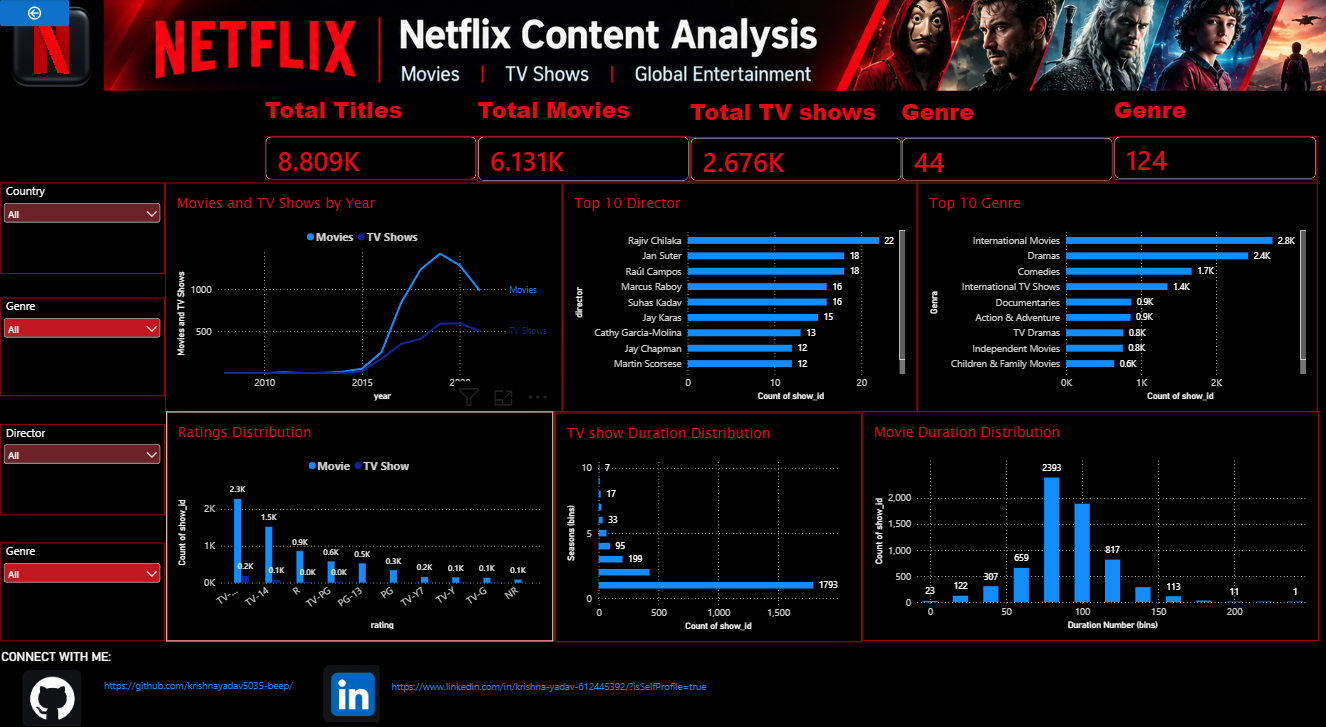

The page's visual inventory and layout, read from the dashboard file:
{"tool":"powerbi","page":{"name":"Page 1","canvas":[1920,1080],"ordinal":0},"visuals":[{"type":"image","box":[150,0,1770,133],"z":0},{"type":"image","box":[0,0,150,142.5],"z":1000},{"type":"lineChart","title":"Movies and TV Shows by Year","fields":{"Category":["netflix_cleaned.added_year"],"Y":["netflix_cleaned.Total Movies","netflix_cleaned.Total TV Shows"]},"box":[239.6,266,575.5,332.1],"z":2000},{"type":"cardVisual","title":"Total Movies","fields":{"Data":["netflix_cleaned.Movies"]},"box":[690.6,137.7,307.5,127.5],"z":3000},{"type":"cardVisual","title":"Total Titles","fields":{"Data":["netflix_cleaned.Total Titles"]},"box":[383,137.7,307.5,125],"z":4000},{"type":"cardVisual","title":"Total TV shows","fields":{"Data":["netflix_cleaned.TV Shows"]},"box":[998.1,139.6,307.5,125],"z":5000},{"type":"clusteredBarChart","title":"Top 10 Director","fields":{"Category":["Director_Data.director"],"Y":["CountNonNull(Director_Data.show_id)"]},"box":[815.1,266,513.2,332.1],"z":6000},{"type":"cardVisual","title":"Genre","fields":{"Data":["Count(genra.listed_in)"]},"box":[1305.7,139.6,307.5,125],"z":7000},{"type":"cardVisual","title":"Country","fields":{"Data":["Count(country_data.country)"]},"box":[1613.2,137.7,294.3,124.5],"z":8000},{"type":"clusteredBarChart","title":"Top 10 Genre","fields":{"Category":["genra.listed_in"],"Y":["CountNonNull(genra.show_id)"]},"box":[1328.3,266,579.2,332.1],"z":9000},{"type":"clusteredColumnChart","title":"Ratings Distribution","fields":{"Category":["netflix_cleaned.rating"],"Series":["netflix_cleaned.type"],"Y":["CountNonNull(Director_Data.show_id)"]},"box":[240,598,562,332],"z":10000},{"type":"clusteredColumnChart","title":"Movie Duration Distribution","fields":{"Category":["netflix_cleaned.Duration Number (bins)"],"Y":["CountNonNull(Director_Data.show_id)"]},"box":[1248,598,661,332.2],"z":11000},{"type":"clusteredBarChart","title":"TV show Duration Distribution","fields":{"Category":["netflix_cleaned.Seasons (bins)"],"Y":["CountNonNull(netflix_cleaned.show_id)"]},"box":[803.4,598.3,444.1,332.2],"z":12000},{"type":"actionButton","box":[0,0,100,40],"z":13000},{"type":"slicer","fields":{"Values":["country_data.country"]},"box":[0,266,238,132],"z":14000},{"type":"slicer","fields":{"Values":["genra.listed_in"]},"box":[0,432,238,142],"z":15000},{"type":"slicer","fields":{"Values":["netflix_cleaned.Seasons"]},"box":[0,788,238,142],"z":16000},{"type":"slicer","fields":{"Values":["Director_Data.director"]},"box":[0,616,238,132],"z":17000},{"type":"textbox","title":"CONNECT WITH ME:","box":[1.7,941.7,476.2,22.5],"z":18000},{"type":"image","box":[31.7,965,86.7,95],"z":19000},{"type":"textbox","box":[1801.7,930,106.7,55],"z":20000},{"type":"image","box":[463.3,957.3,86.7,95],"z":21000},{"type":"textbox","box":[150,985,386.7,55],"z":22000},{"type":"textbox","box":[566,966,968,74],"z":23000}]}

Visuals, with their boxes in screenshot pixels (x1, y1, x2, y2), scaled from the page's 1920x1080 canvas onto the 1326x727 screenshot:
image: bbox(104, 0, 1325, 90)
image: bbox(0, 0, 104, 96)
"Movies and TV Shows by Year" lineChart: bbox(165, 179, 563, 403)
"Total Movies" cardVisual: bbox(477, 93, 689, 179)
"Total Titles" cardVisual: bbox(265, 93, 477, 177)
"Total TV shows" cardVisual: bbox(689, 94, 902, 178)
"Top 10 Director" clusteredBarChart: bbox(563, 179, 917, 403)
"Genre" cardVisual: bbox(902, 94, 1114, 178)
"Country" cardVisual: bbox(1114, 93, 1317, 176)
"Top 10 Genre" clusteredBarChart: bbox(917, 179, 1317, 403)
"Ratings Distribution" clusteredColumnChart: bbox(166, 403, 554, 626)
"Movie Duration Distribution" clusteredColumnChart: bbox(862, 403, 1318, 626)
"TV show Duration Distribution" clusteredBarChart: bbox(555, 403, 862, 626)
actionButton: bbox(0, 0, 69, 27)
slicer - country_data.country: bbox(0, 179, 164, 268)
slicer - genra.listed_in: bbox(0, 291, 164, 386)
slicer - netflix_cleaned.Seasons: bbox(0, 530, 164, 626)
slicer - Director_Data.director: bbox(0, 415, 164, 504)
"CONNECT WITH ME:" textbox: bbox(1, 634, 330, 649)
image: bbox(22, 650, 82, 714)
textbox: bbox(1244, 626, 1318, 663)
image: bbox(320, 644, 380, 708)
textbox: bbox(104, 663, 371, 700)
textbox: bbox(391, 650, 1059, 700)
